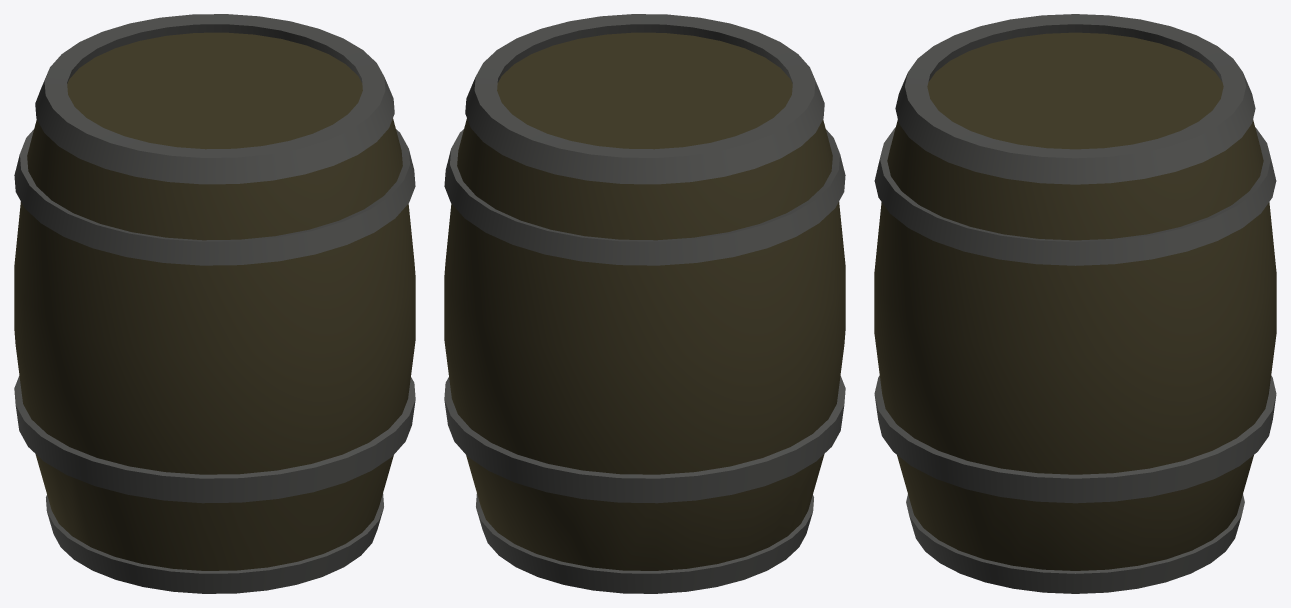
The model's file is low barril.fbx.
3 views of the same model, side by side, from view 1: azimuth 30°, elevation 25°; view 2: azimuth 150°, elevation 25°; view 3: azimuth 270°, elevation 25° (orthographic).
Parts seen in each view (by area): view 1: low barril; view 2: low barril; view 3: low barril.
Part boxes in pixels (bbox=[...]): low barril: bbox=[14, 14, 415, 593]; low barril: bbox=[444, 14, 845, 593]; low barril: bbox=[874, 14, 1276, 593].
Size of the model in its own units: 89.98 by 109 by 89.98.
